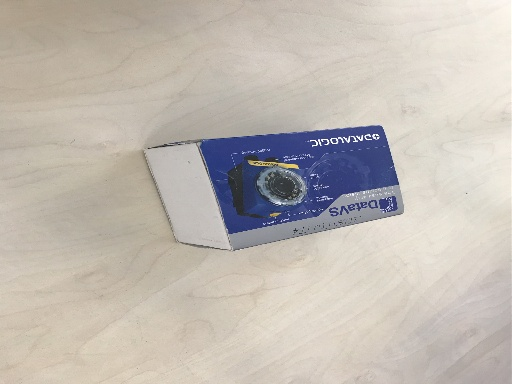Box: (143, 124, 406, 253)
